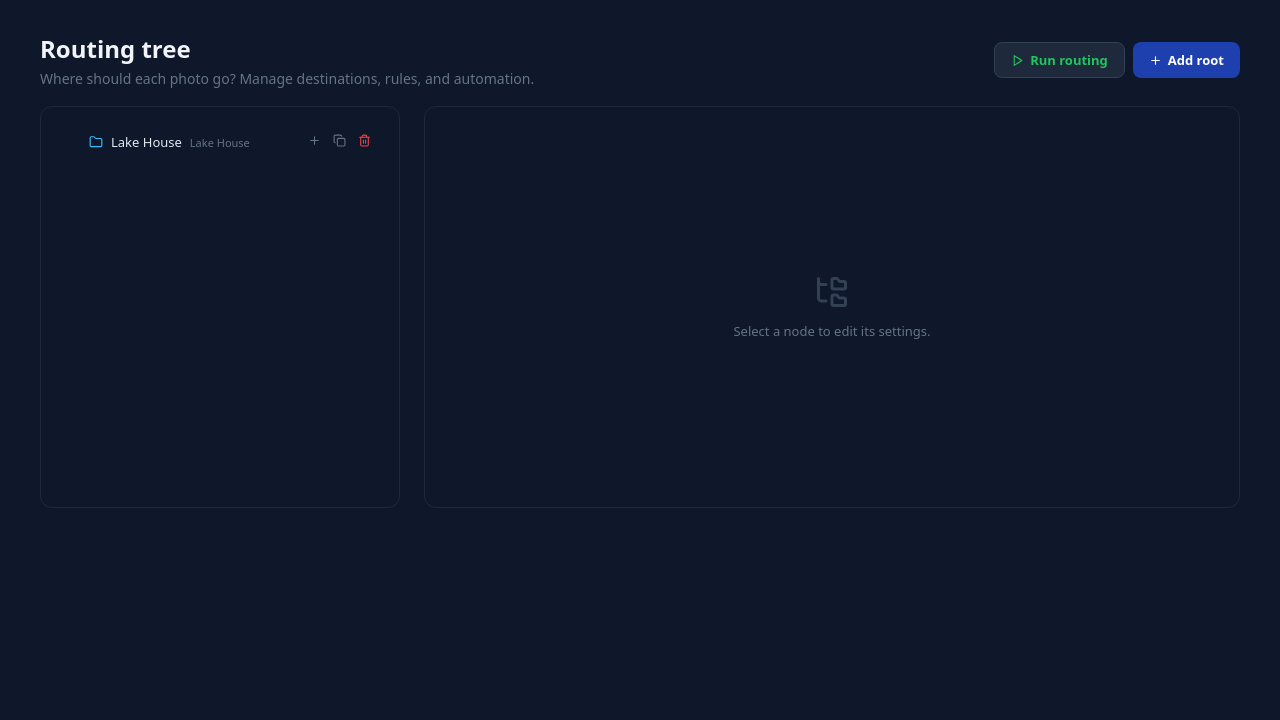
Test: Routing tree page › opens the leaf editor when a node is selected
Expected: the text "Lake House" is shown, x1=111 y1=133 x2=182 y2=151
Click the text "Lake House" at (180, 142), box x1=111 y1=133 x2=250 y2=151
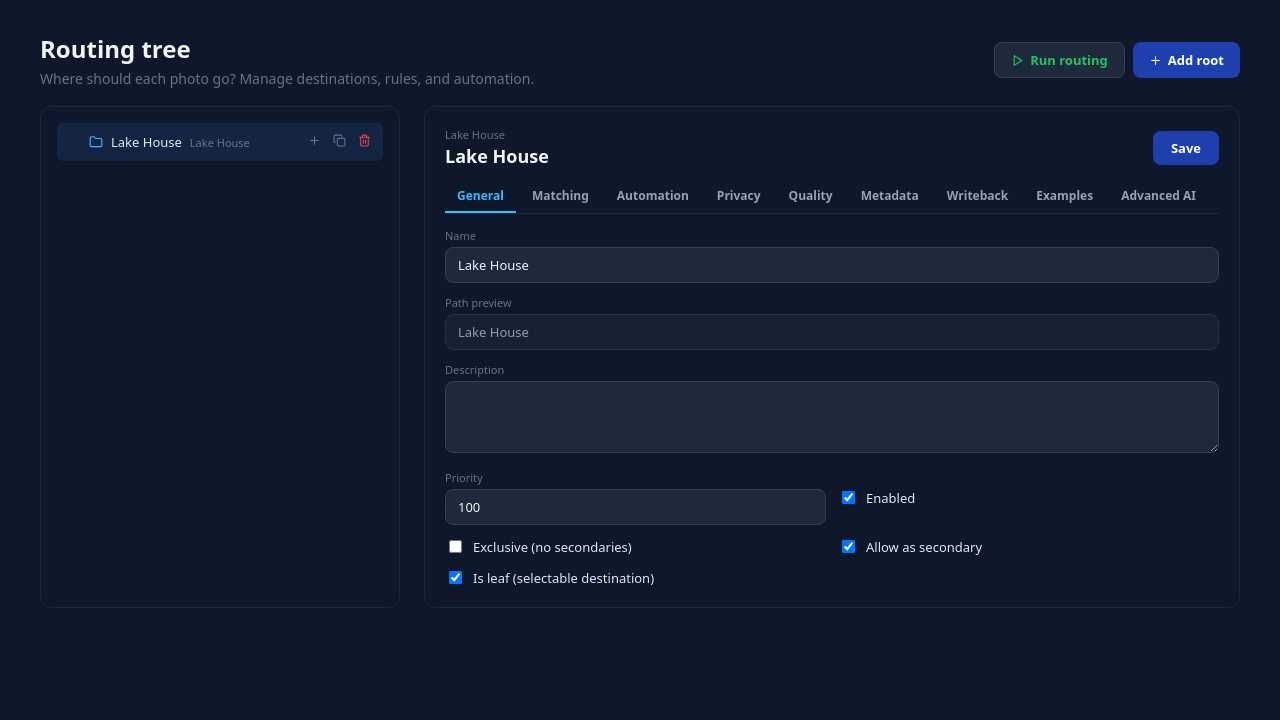
Expected: the button "Matching" is shown
Click the button "Matching" at (560, 196), box x1=520 y1=180 x2=601 y2=213
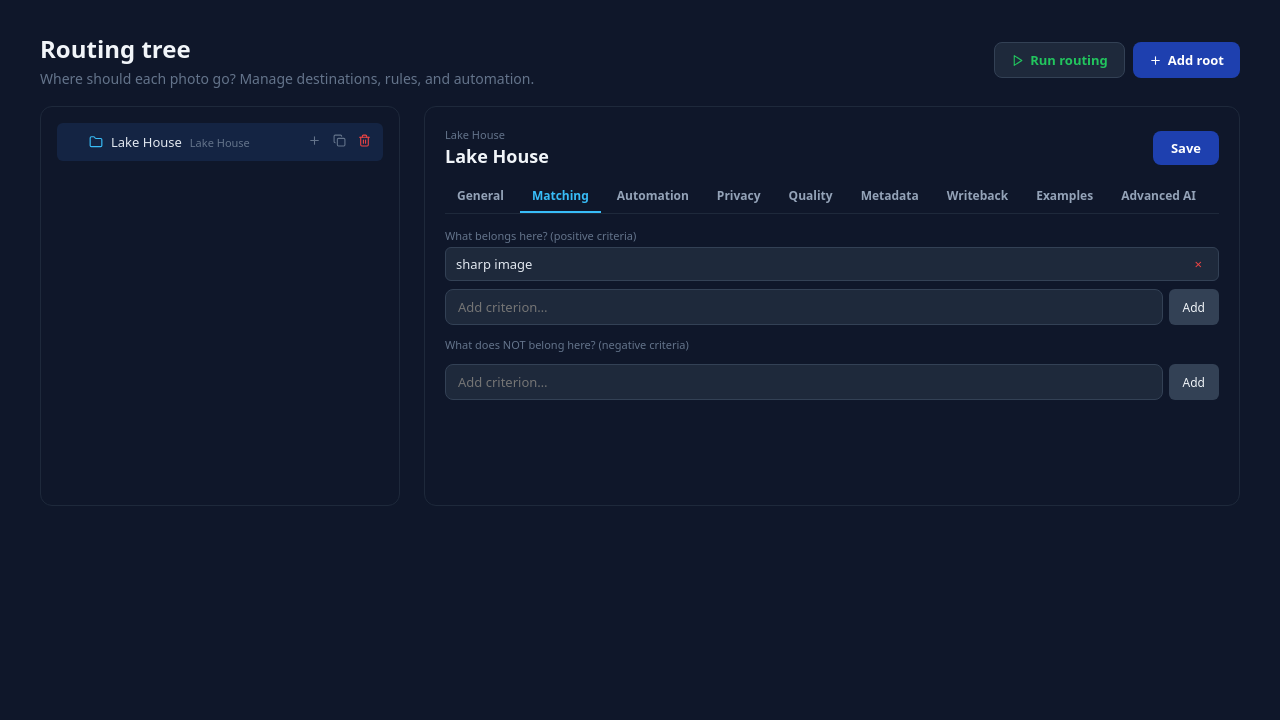
Expected: the text "sharp image" is shown, x1=456 y1=255 x2=532 y2=273
